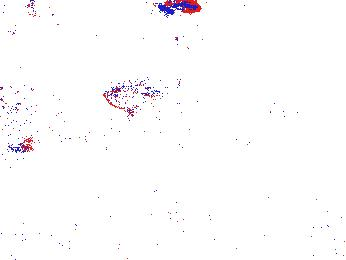X-ray fish: (104, 68, 175, 113)
red belly glassfish: (159, 1, 202, 20), (23, 1, 40, 17)
